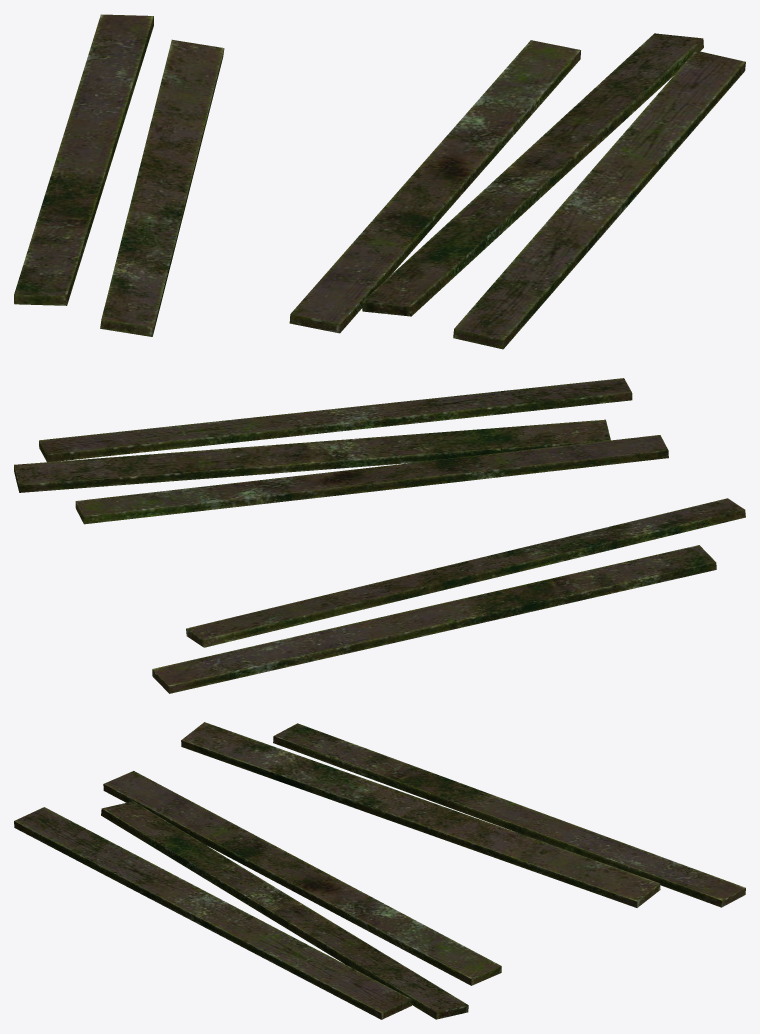
The model's file is wreck-boards.glb.
3 views of the same model, one above another, from view 1: azimuth 30°, elevation 25°; view 2: azimuth 150°, elevation 25°; view 3: azimuth 270°, elevation 25° (orthographic). The views are drawn at different scales.
Parts seen in each view (by area): view 1: boards; view 2: boards; view 3: boards.
Boxes of the visible parts, bbox=[...] form: boards: bbox=[14, 14, 745, 349]; boards: bbox=[14, 378, 745, 693]; boards: bbox=[14, 722, 745, 1019].
Bounding box in the file's own units: 5.83 × 0.4398 × 6.22.
1 material, 1 textured.
